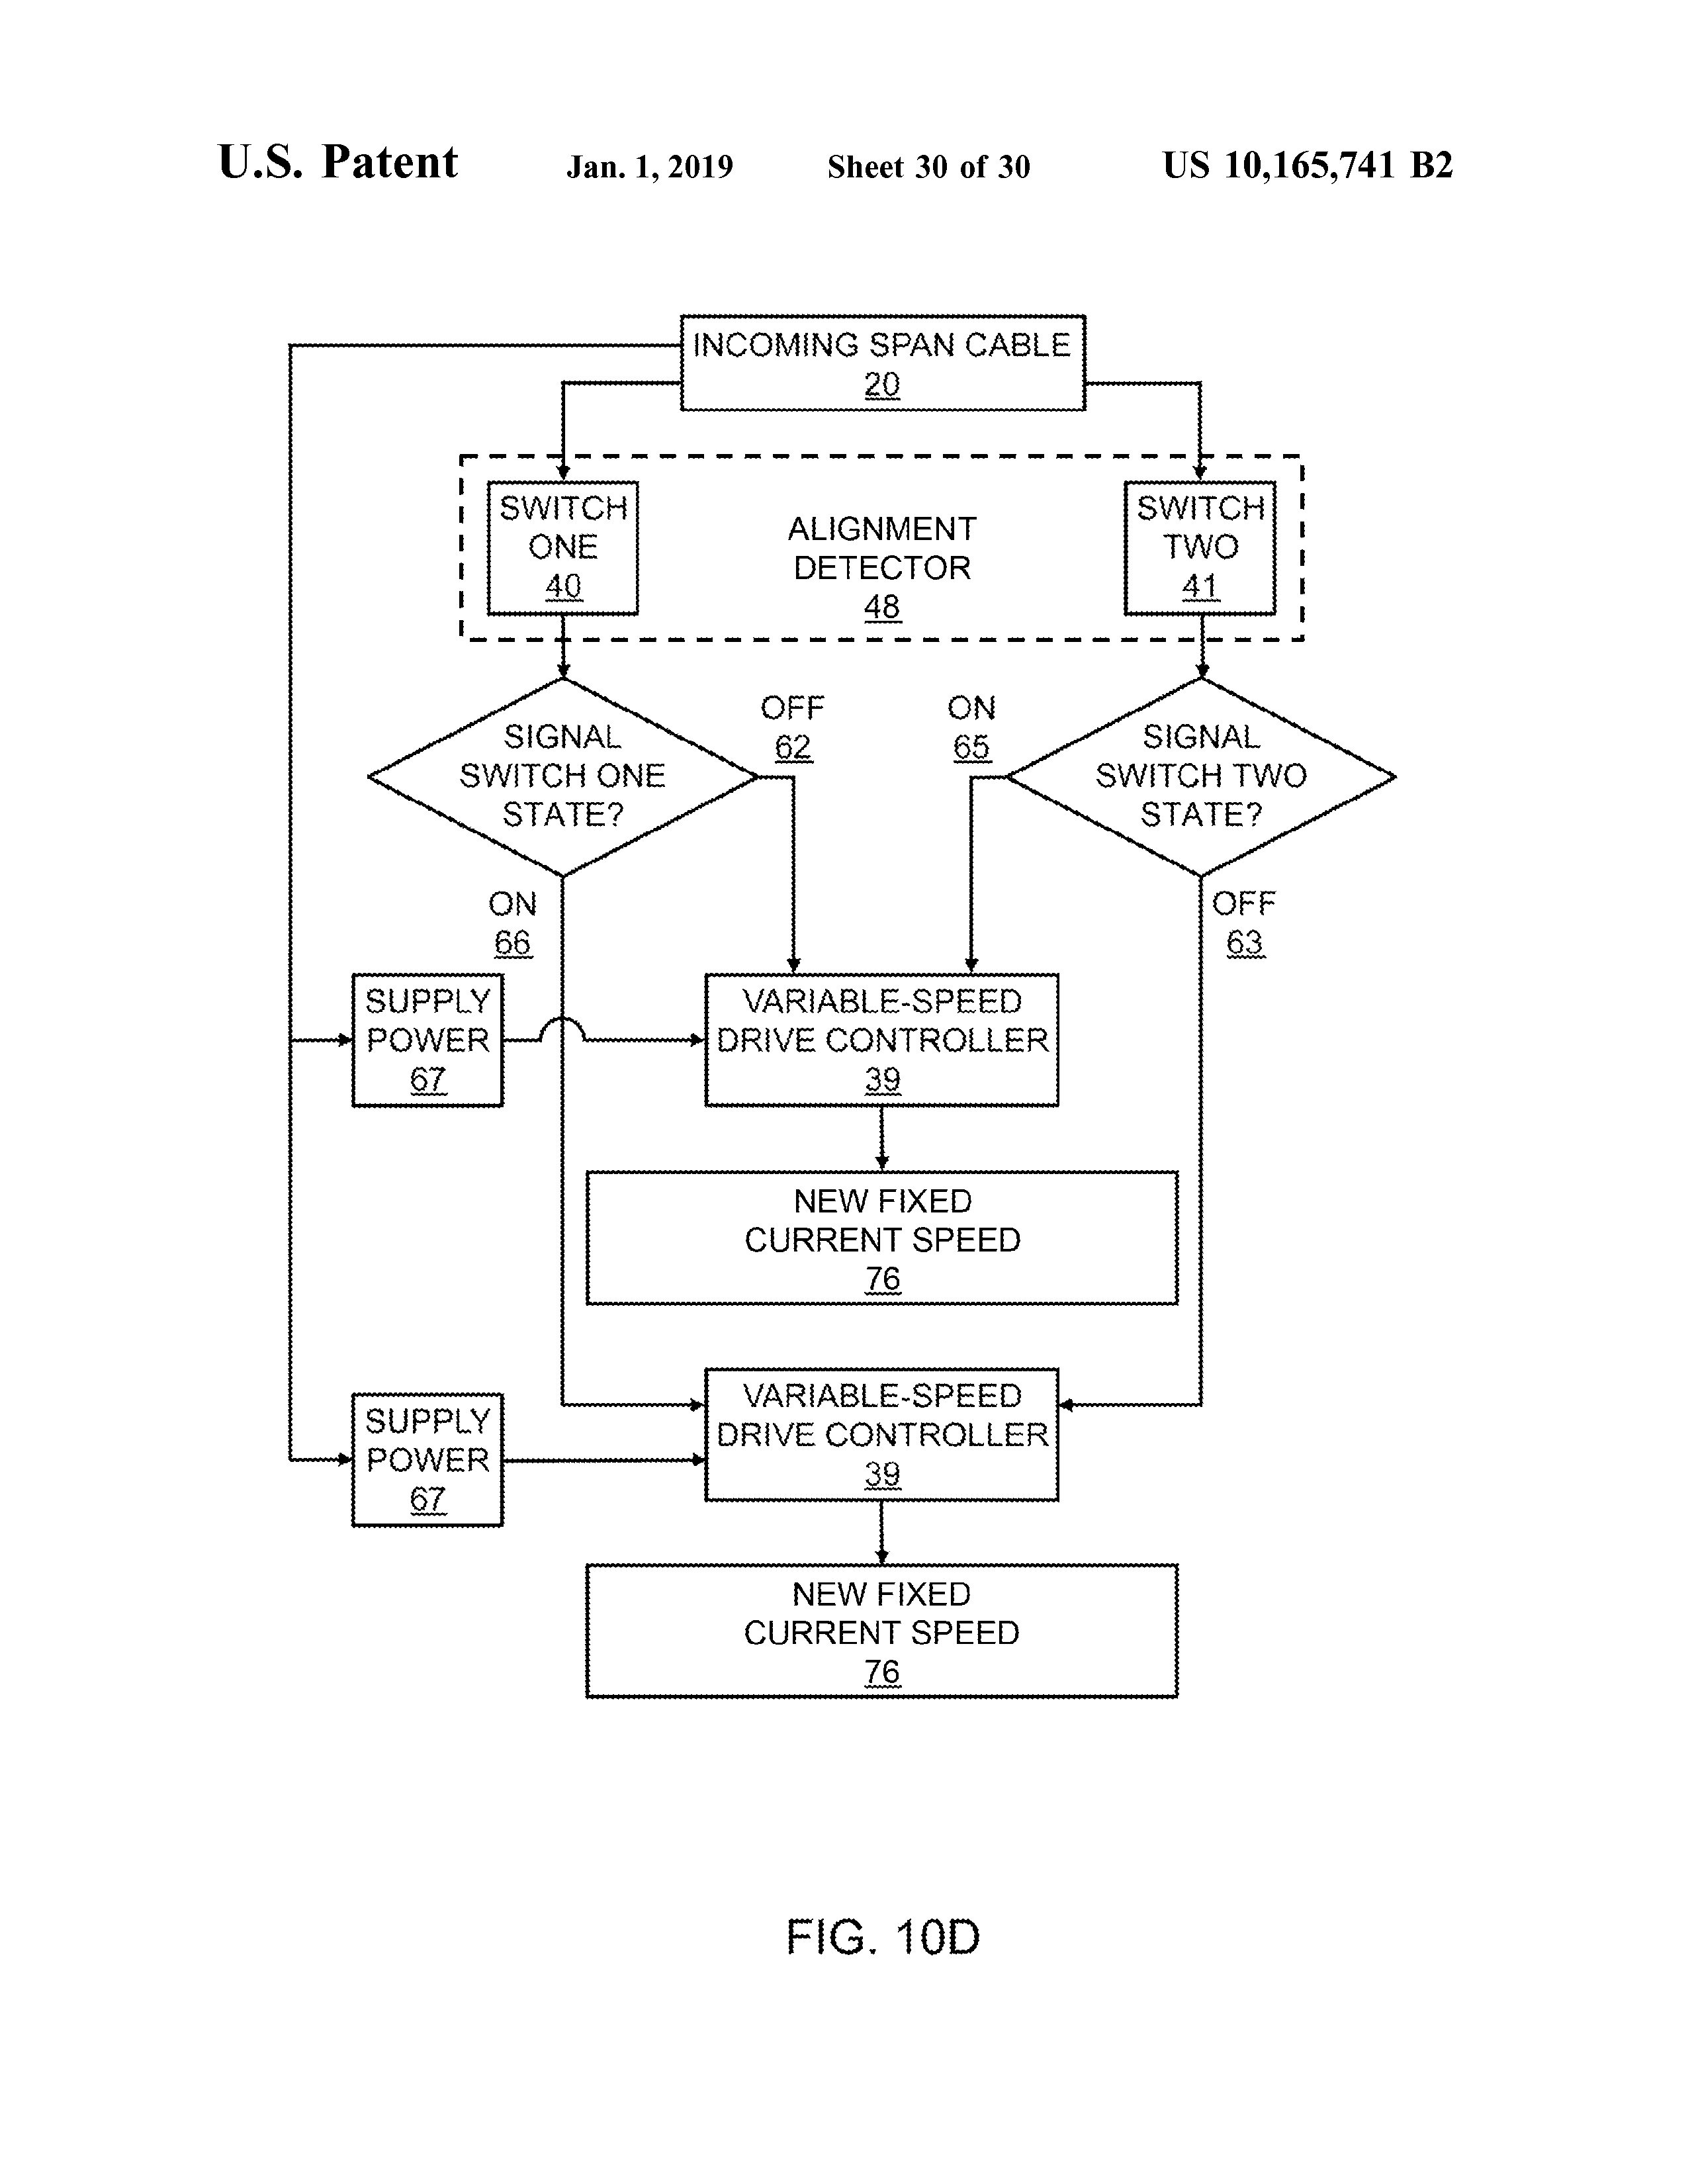patent image: (261, 284, 1425, 1966)
